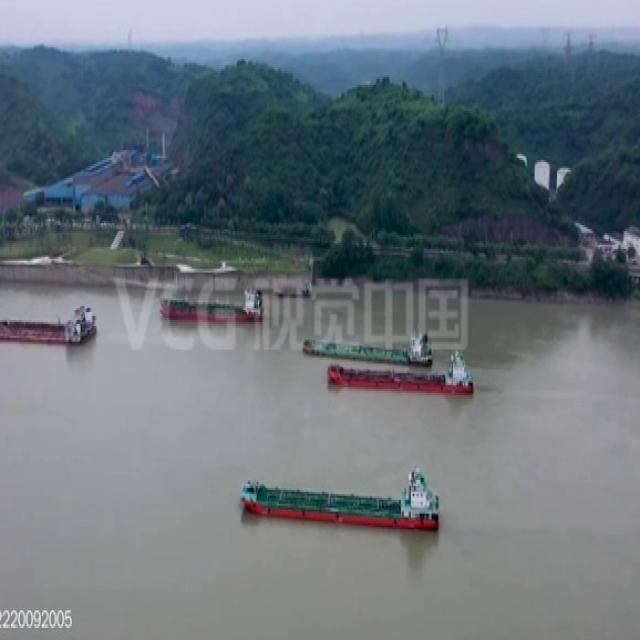cargoship: (240, 468, 442, 534), (326, 350, 474, 396), (301, 319, 435, 368), (159, 278, 265, 324), (0, 296, 95, 346), (273, 271, 314, 299)
